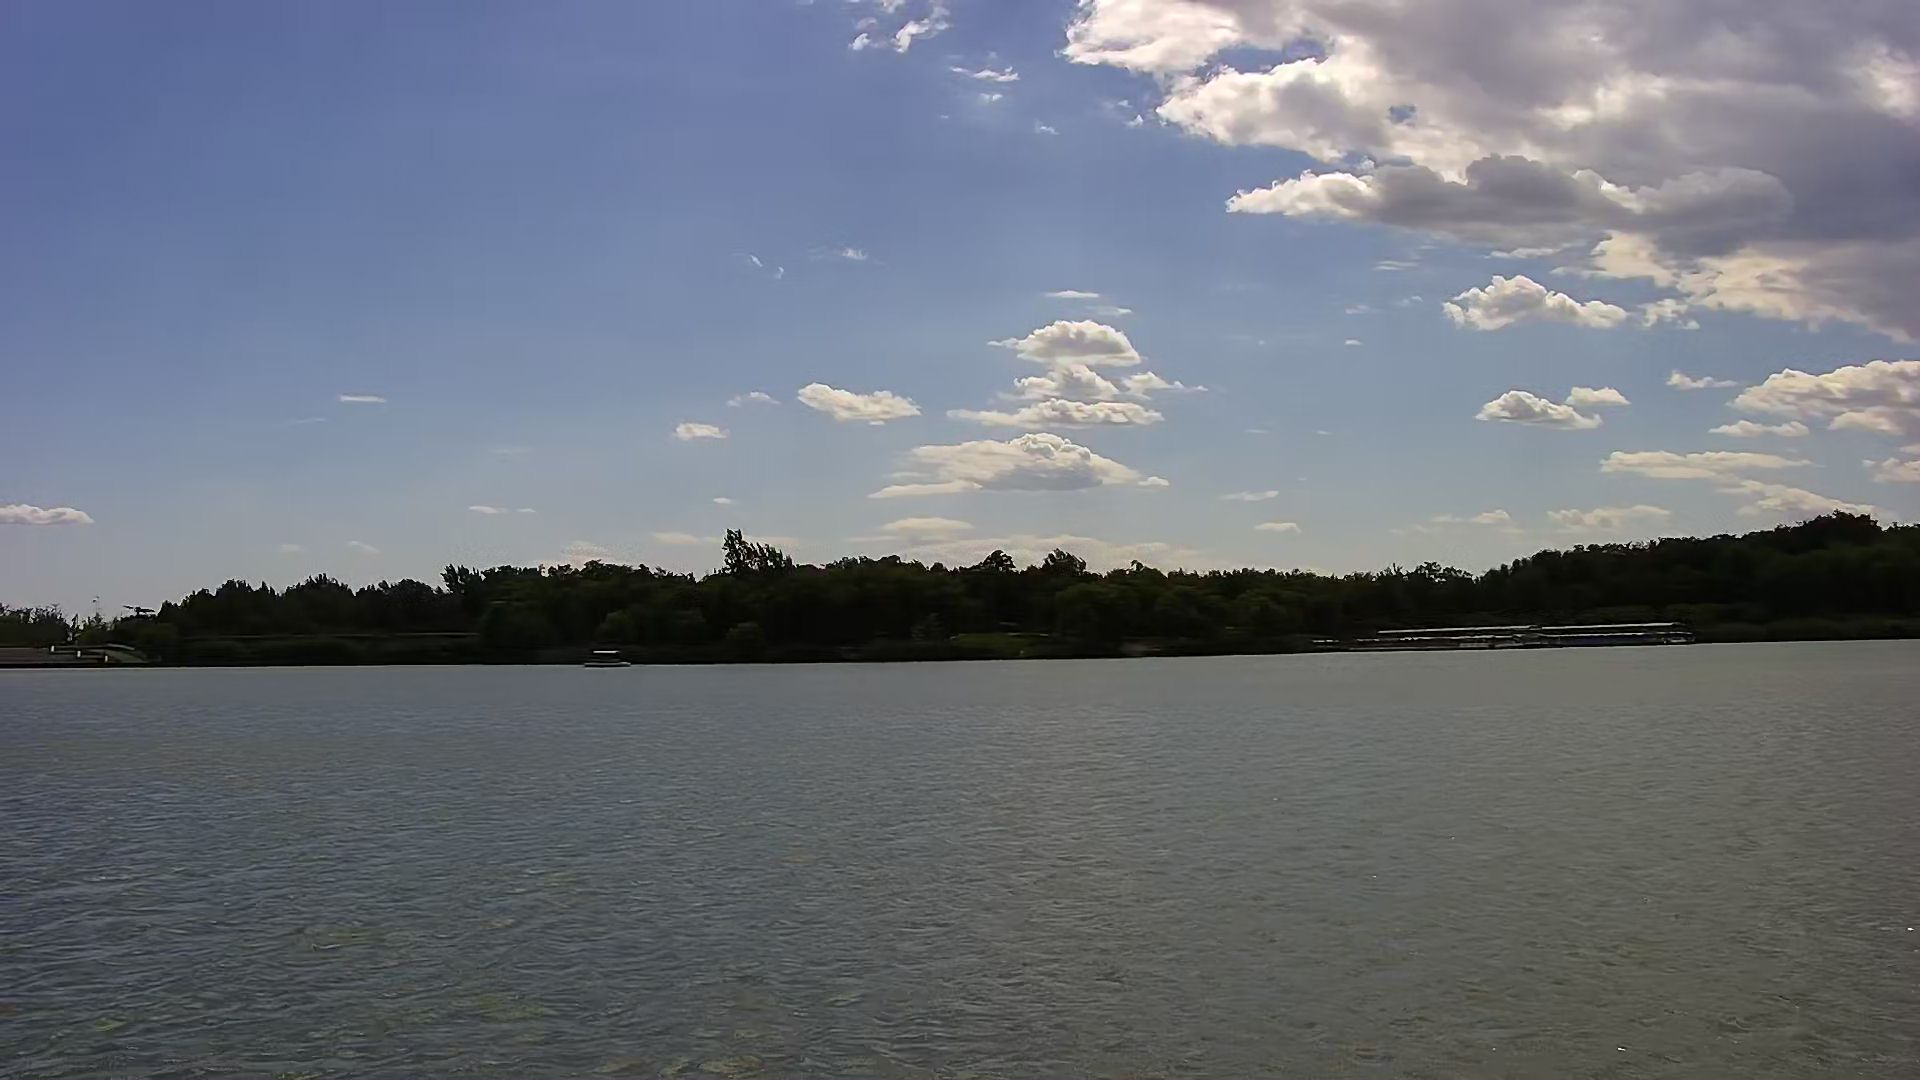boat: (579, 647, 634, 673)
harbor: (1319, 615, 1702, 651)
